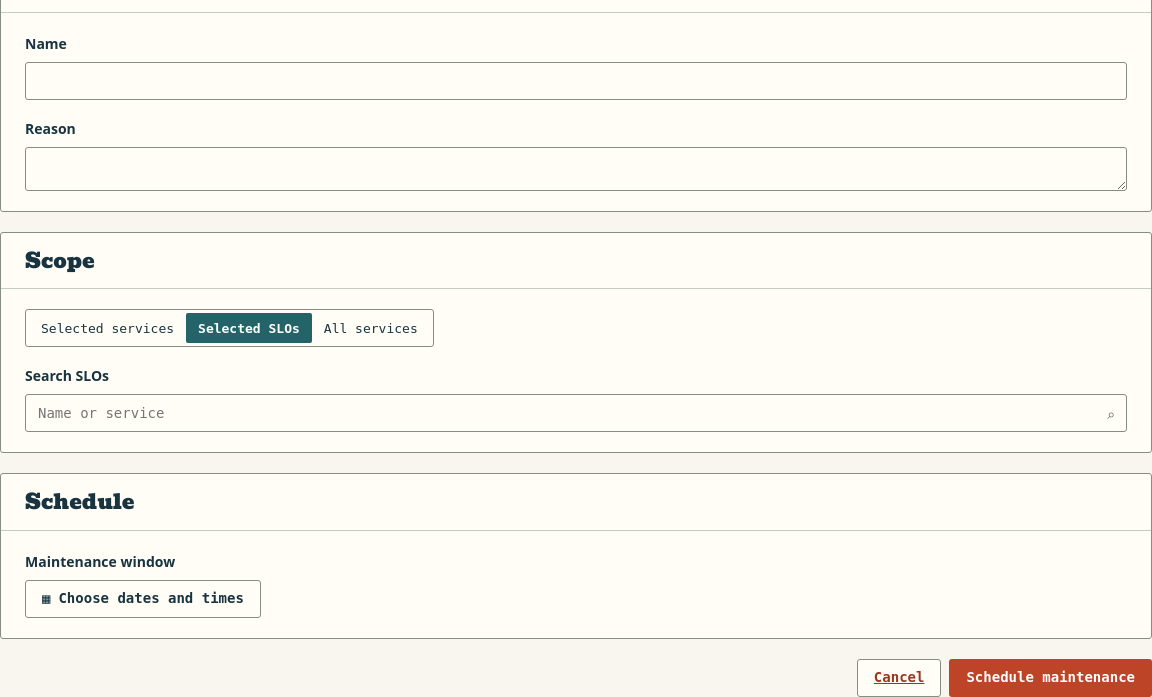
associates an invalid window order with the end time
The image size is (1152, 697).
(page scrolled)
Click the button named "Maintenance window" at (143, 599), box [25,580,261,618]
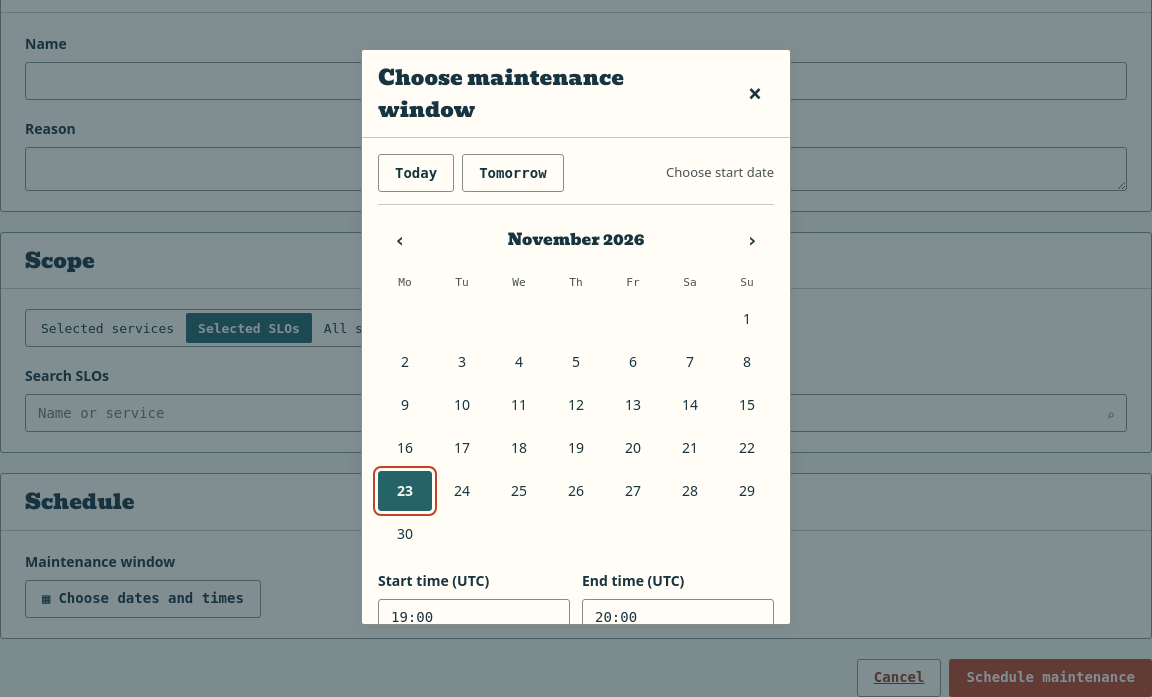
Click the button "Today" at (416, 173), box [378,154,454,192]
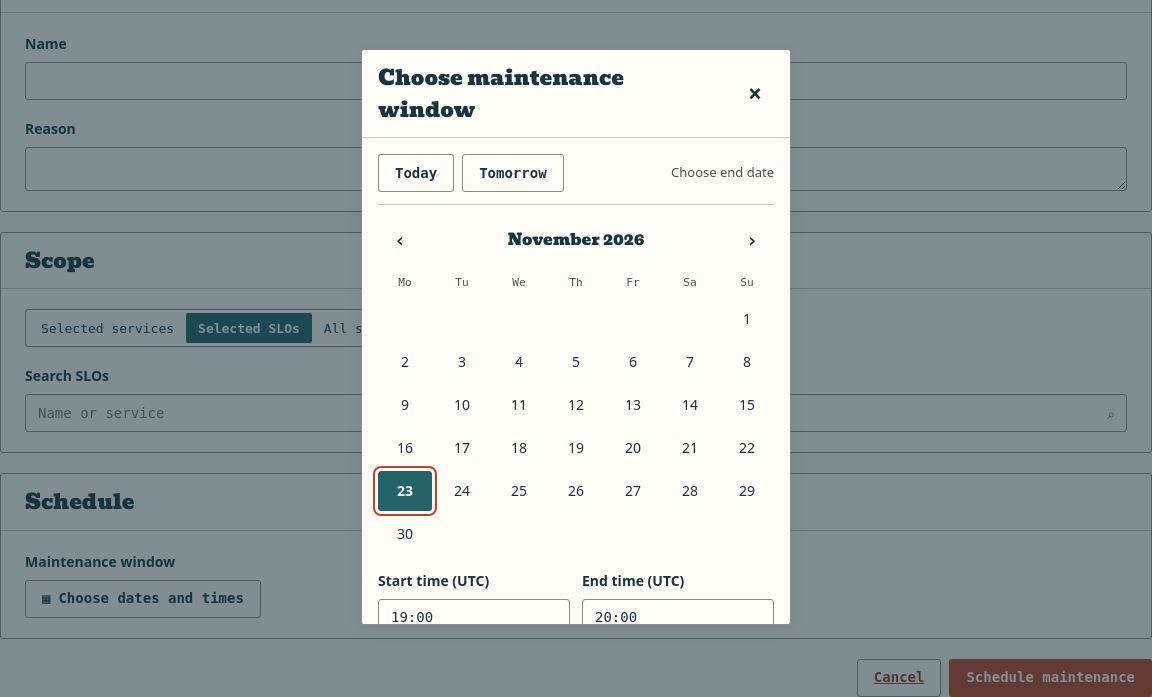
Replace the text in the field labelled "Start time (UTC)" with "12:00" at (474, 618), box [378,599,570,637]
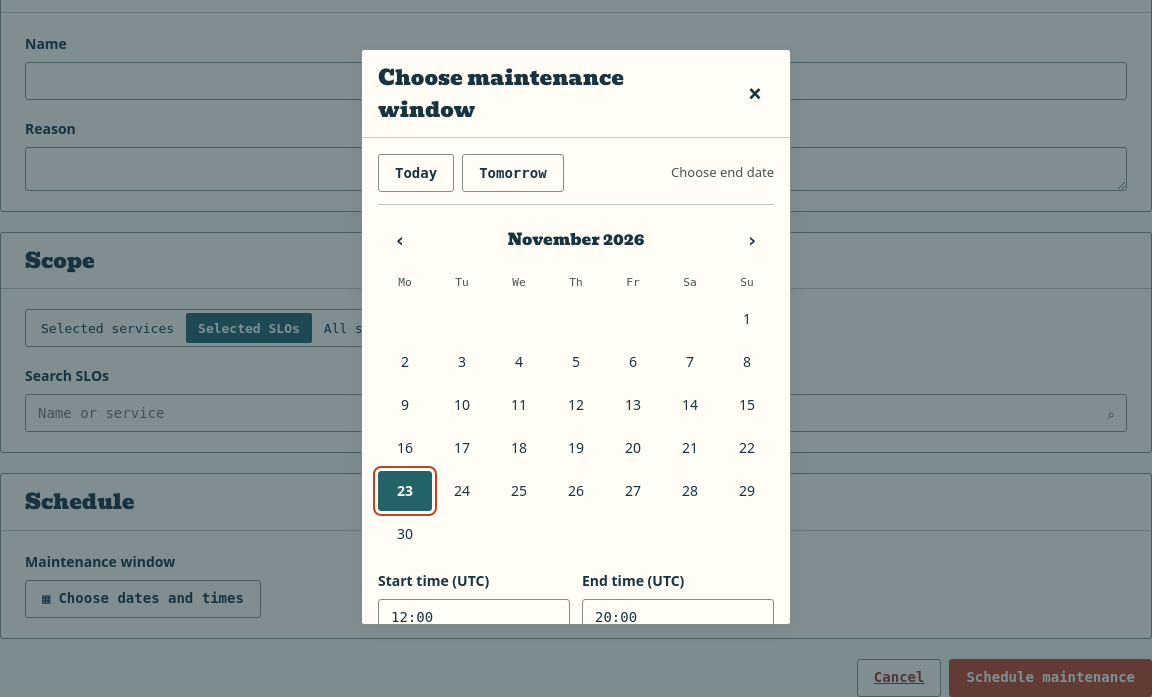
Replace the text in the field labelled "End time (UTC)" with "11:00" at (678, 618), box [582,599,774,637]
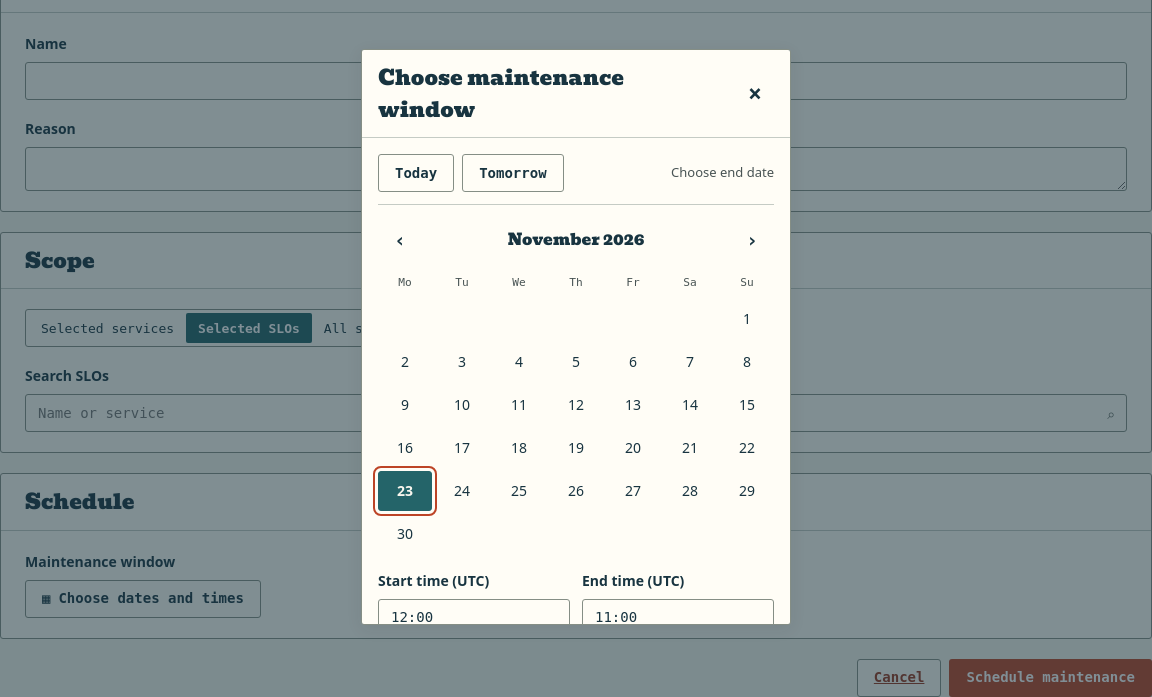
Replace the text in the field labelled "End time (UTC)" with "13:00" at (678, 618), box [582,599,774,637]
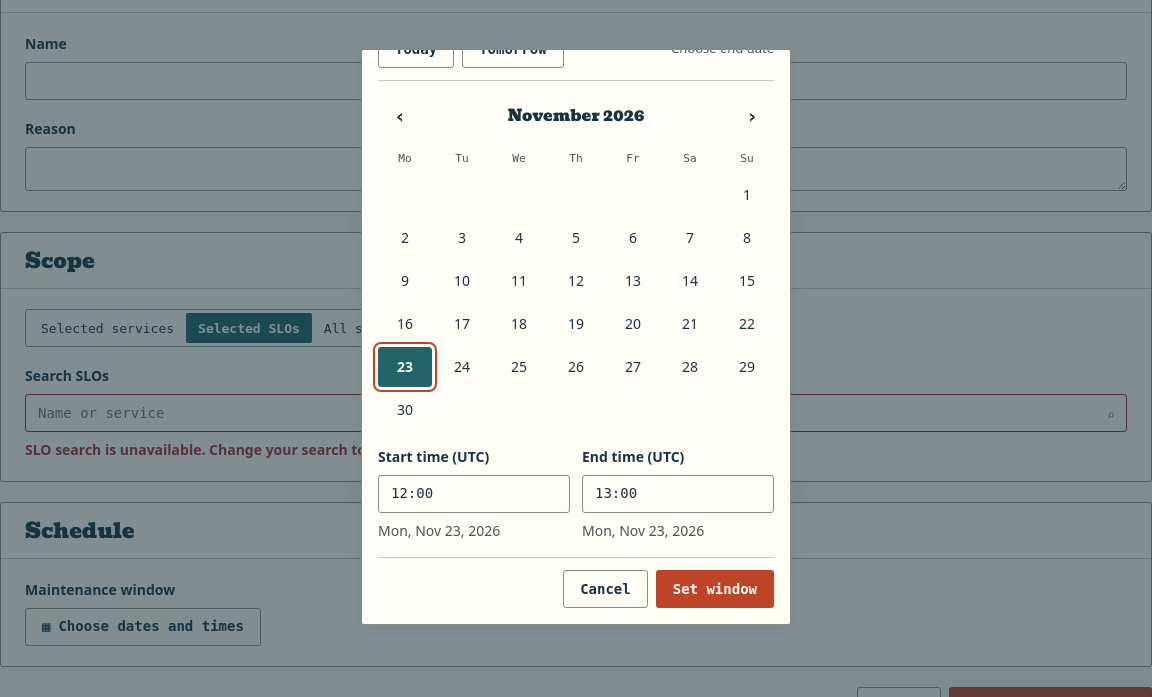
expect the button "Set window" is enabled: met, box [656,570,774,608]
